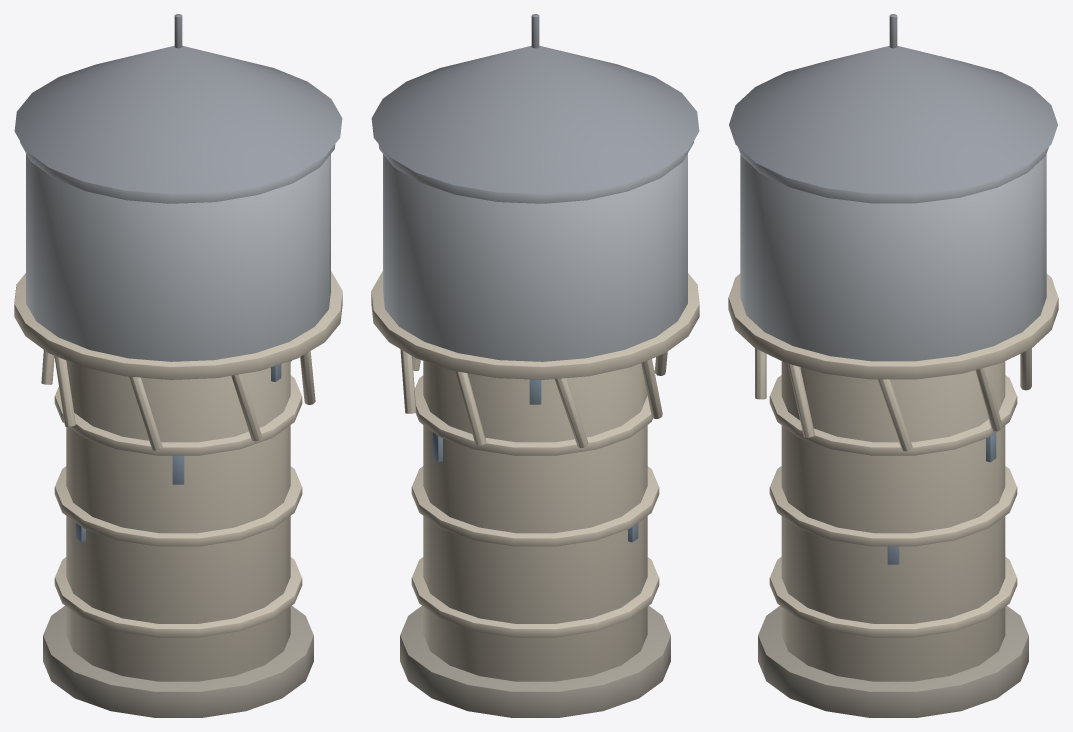
The model's file is th9_wasserturm.glb.
3 views of the same model, side by side, from view 1: azimuth 30°, elevation 25°; view 2: azimuth 150°, elevation 25°; view 3: azimuth 270°, elevation 25° (orthographic).
Visible parts, largest first — view 1: Cylinder.001, Cylinder.014, Cone, Cylinder, Cylinder.013, Cylinder.002, Cylinder.003, Cylinder.004, Cylinder.015, Cylinder.006, Cylinder.005, Cylinder.007 (+1 smaller); view 2: Cylinder.001, Cylinder.014, Cone, Cylinder, Cylinder.013, Cylinder.002, Cylinder.003, Cylinder.004, Cylinder.015, Cylinder.011, Cylinder.012, Cylinder.010 (+1 smaller); view 3: Cylinder.001, Cylinder.014, Cone, Cylinder, Cylinder.013, Cylinder.002, Cylinder.003, Cylinder.004, Cylinder.015, Cylinder.009, Cylinder.008, Cylinder.010 (+1 smaller).
Part boxes in pixels (<box>): Cylinder.001: <box>66,360,290,681</box>; Cylinder.014: <box>26,153,330,361</box>; Cone: <box>14,45,342,194</box>; Cylinder: <box>43,606,313,717</box>; Cylinder.013: <box>14,271,342,379</box>; Cylinder.002: <box>54,557,302,637</box>; Cylinder.003: <box>54,466,302,546</box>; Cylinder.004: <box>54,375,302,455</box>; Cylinder.015: <box>20,141,335,203</box>; Cylinder.006: <box>129,376,162,450</box>; Cylinder.005: <box>54,355,75,426</box>; Cylinder.007: <box>231,374,261,441</box>; Cylinder.001: <box>423,361,647,681</box>; Cylinder.014: <box>383,153,687,361</box>; Cone: <box>371,45,699,194</box>; Cylinder: <box>400,606,670,717</box>; Cylinder.013: <box>371,271,699,379</box>; Cylinder.002: <box>411,557,659,637</box>; Cylinder.003: <box>411,466,659,546</box>; Cylinder.004: <box>414,375,652,455</box>; Cylinder.015: <box>378,141,693,203</box>; Cylinder.011: <box>455,371,486,445</box>; Cylinder.012: <box>554,378,588,448</box>; Cylinder.010: <box>400,349,416,413</box>; Cylinder.001: <box>781,361,1005,681</box>; Cylinder.014: <box>740,154,1046,361</box>; Cone: <box>729,46,1057,193</box>; Cylinder: <box>758,606,1028,717</box>; Cylinder.013: <box>728,273,1058,379</box>; Cylinder.002: <box>769,557,1017,637</box>; Cylinder.003: <box>769,466,1017,546</box>; Cylinder.004: <box>769,375,1017,455</box>; Cylinder.015: <box>738,147,1048,203</box>; Cylinder.009: <box>878,379,912,451</box>; Cylinder.008: <box>787,364,814,437</box>; Cylinder.010: <box>975,367,1002,431</box>.
Bounding box in the file's own units: 11.09 × 24.2 × 11.2.
